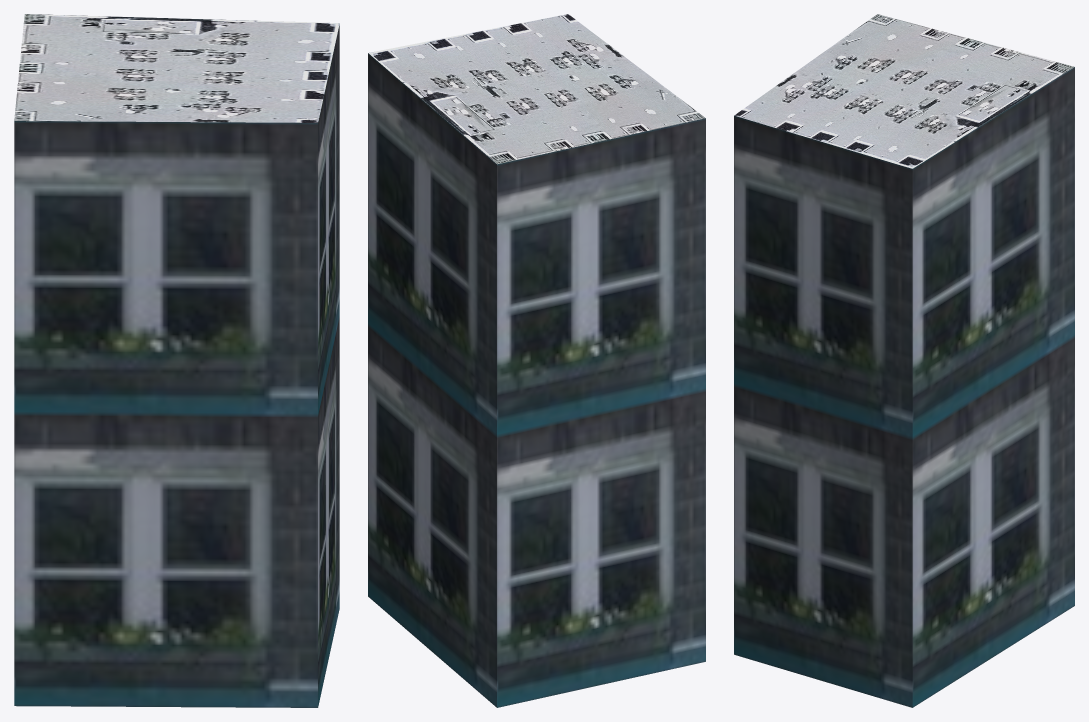
The model's file is ResTex__3905.fbx.
3 renders of one model, left to right at view 1: azimuth 30°, elevation 25°; view 2: azimuth 150°, elevation 25°; view 3: azimuth 270°, elevation 25°, orthographic. The views are drawn at different scales.
Visible parts, largest first — view 1: CityEngineMaterial_11_m, CityEngineMaterial_4_m; view 2: CityEngineMaterial_11_m, CityEngineMaterial_4_m; view 3: CityEngineMaterial_11_m, CityEngineMaterial_4_m.
Part boxes in pixels (x1,y1,x2,y2): CityEngineMaterial_11_m: (14,24,339,707); CityEngineMaterial_4_m: (14,14,339,122); CityEngineMaterial_11_m: (368,53,705,707); CityEngineMaterial_4_m: (368,14,705,164); CityEngineMaterial_11_m: (734,67,1074,707); CityEngineMaterial_4_m: (734,14,1074,168).
Size of the model in its own units: 3.7 by 6 by 3.44.
2 materials, 2 textured.
